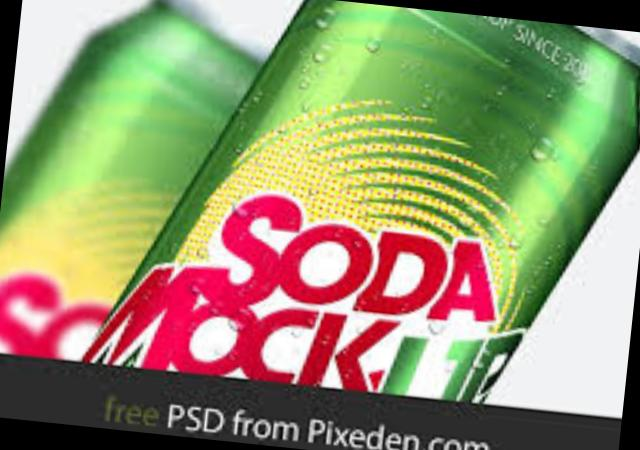metal: (82, 0, 640, 401)
